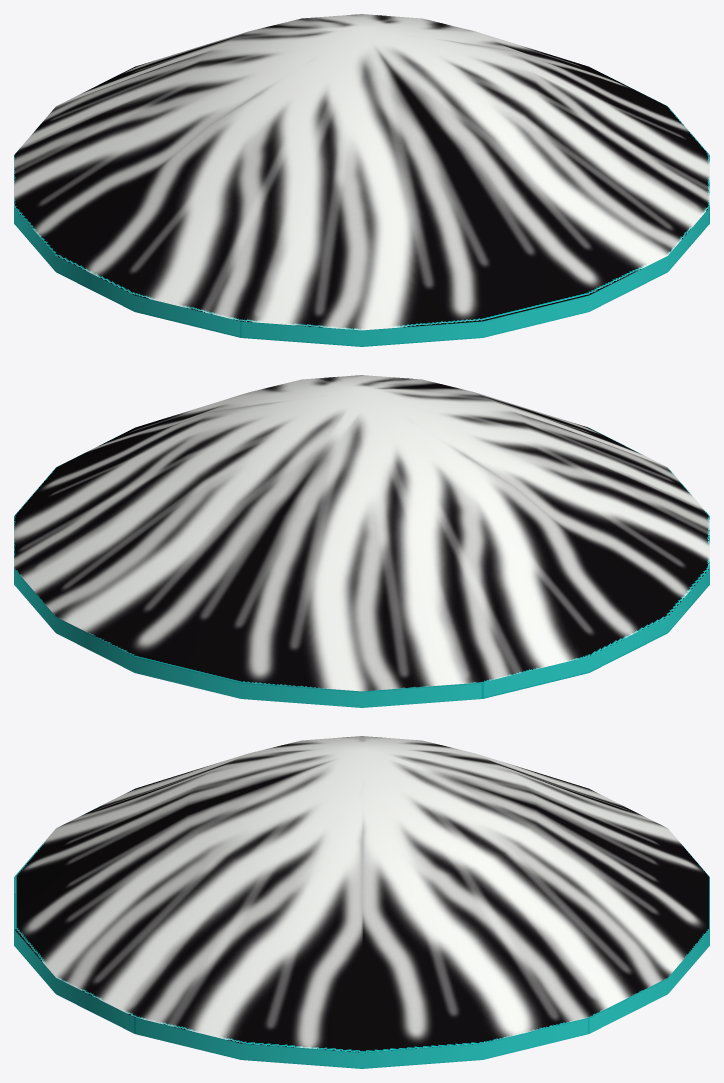
Rendered from ShieldBlue.FBX.
The picture shows the model from 3 angles, top to bottom: view 1: azimuth 30°, elevation 25°; view 2: azimuth 150°, elevation 25°; view 3: azimuth 270°, elevation 25°; orthographic projection.
Visible parts, largest first — view 1: Cylinder001; view 2: Cylinder001; view 3: Cylinder001.
Boxes of the visible parts, box(x1,y1,x2,y2) form: Cylinder001: box(14, 14, 709, 346); Cylinder001: box(14, 375, 709, 707); Cylinder001: box(14, 736, 709, 1068).
Bounding box in the file's own units: 279 × 73.81 × 275.
Materials: 1 (1 with a texture image).
